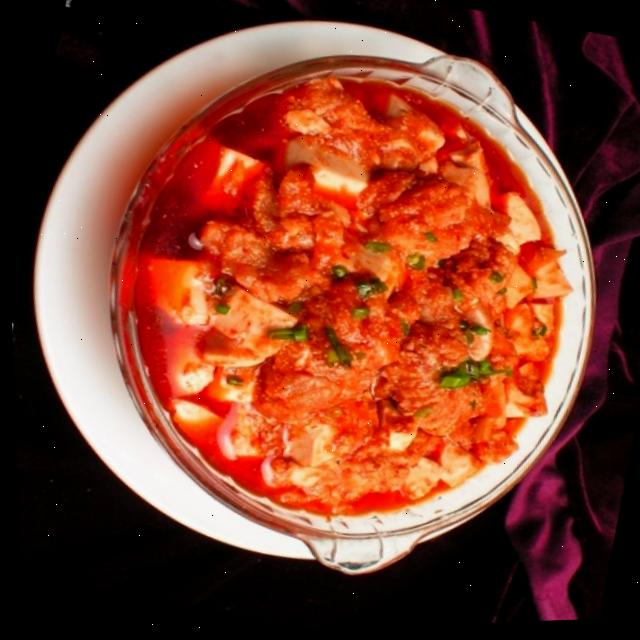豆腐料理: (32, 0, 633, 595)
